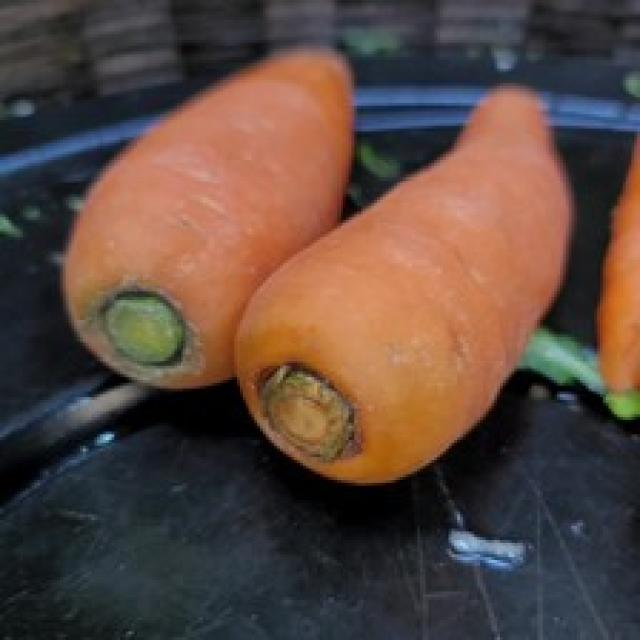Fresh_Carrot: (111, 58, 346, 368)
